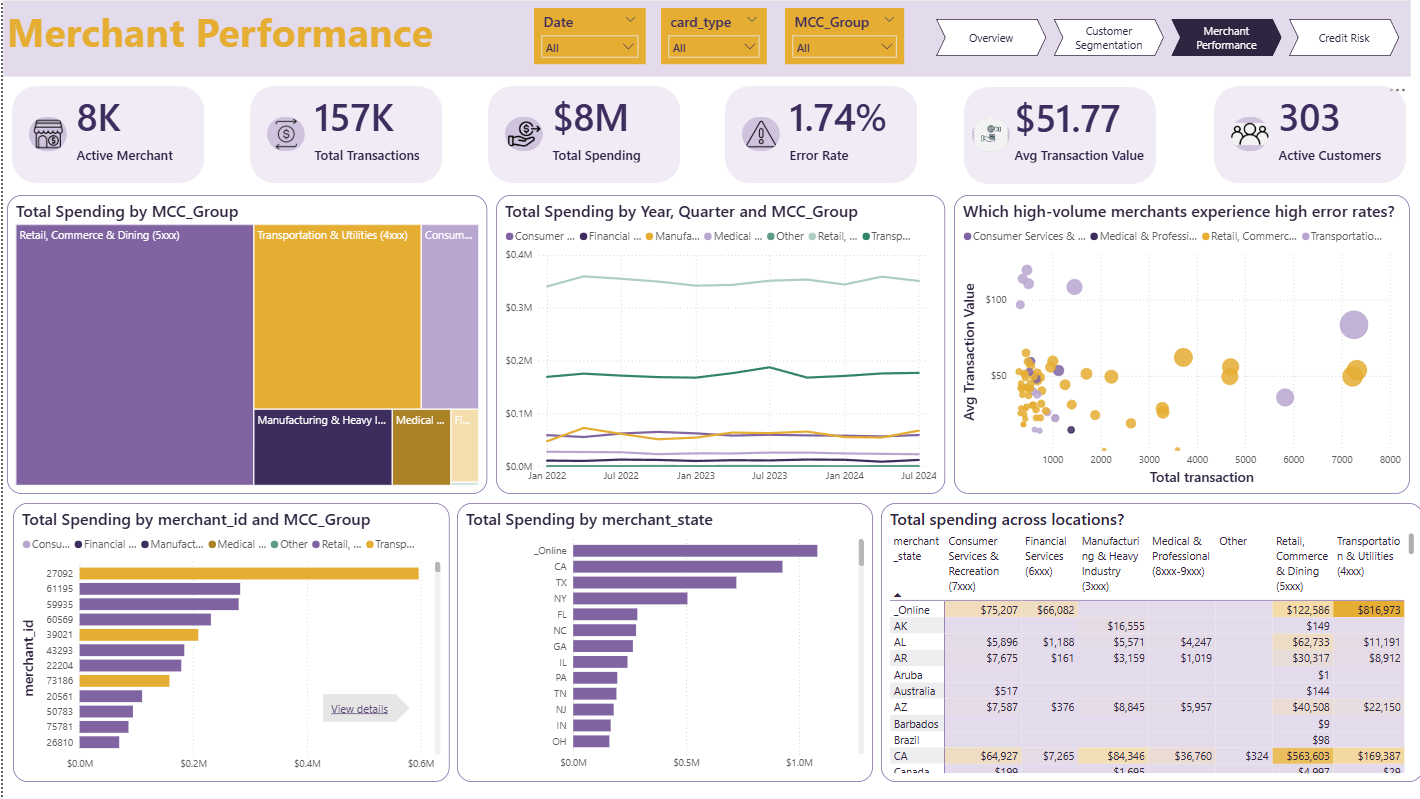

Layout of this report page (visuals, bound fields, positions):
{"tool":"powerbi","page":{"name":"Merchant Performance","canvas":[1920,1080],"ordinal":2},"visuals":[{"type":"shape","box":[11.6,117,259.7,131.3],"z":0,"group":"g2"},{"type":"shape","box":[333.6,117,259.7,131.3],"z":0,"group":"g3"},{"type":"shape","box":[655.7,117,259.7,131.3],"z":0,"group":"g4"},{"type":"shape","box":[976.2,117,259.7,131.3],"z":0,"group":"g5"},{"type":"shape","box":[1636.2,117,259.7,131.3],"z":0,"group":"g6"},{"type":"shape","box":[1298.3,117.7,259.7,131.3],"z":0,"group":"g1"},{"type":"treemap","fields":{"Group":["dim_mcc_codes.MCC_Group"],"Values":["_Measures.Total Spending"]},"box":[5.8,263.8,649.3,404.3],"z":0},{"type":"barChart","fields":{"Y":["_Measures.Gross Spending"],"Category":["fact_transactions.merchant_state","fact_transactions.merchant_city"]},"box":[613,679.7,562.3,376.8],"z":1000},{"type":"barChart","fields":{"Y":["_Measures.Gross Spending"],"Series":["dim_mcc_codes.MCC_Group"],"Category":["dim_merchants.merchant_id"]},"box":[13,679.7,589.9,376.8],"z":2000},{"type":"lineChart","fields":{"Y":["_Measures.Total Spending"],"Category":["dim_date.Date.Variation.Date Hierarchy.Year","dim_date.Date.Variation.Date Hierarchy.Quarter"],"Series":["dim_mcc_codes.MCC_Group"]},"box":[666.7,263.8,607.2,404.3],"z":3000},{"type":"pivotTable","title":"Total spending across locations?","fields":{"Columns":["dim_mcc_codes.MCC_Group"],"Rows":["fact_transactions.merchant_state"],"Values":["_Measures.Total Spending"]},"box":[1187,679.7,733.3,376.8],"z":4000},{"type":"scatterChart","title":"Which high-volume merchants experience high error rates?","fields":{"X":["dim_merchants.Total transaction"],"Size":["_Measures.Total Spending"],"Series":["dim_merchants.MCC_Group"],"Y":["_Measures.Avg Transaction Value"]},"box":[1285.5,263.8,615.9,404.3],"z":5000},{"type":"actionButton","title":"View details","box":[431.9,937.7,117.4,37.7],"z":6000},{"type":"textbox","box":[0,0,1902.1,104.3],"z":7000},{"type":"pageNavigator","box":[1260.3,25.9,629.3,50],"z":8000},{"type":"slicer","fields":{"Values":["dim_mcc_codes.MCC_Group"]},"box":[1056.7,10.4,161.2,76.1],"z":9000},{"type":"slicer","fields":{"Values":["dim_cards.card_type"]},"box":[889.6,10.4,143.3,76.1],"z":10000},{"type":"slicer","fields":{"Values":["dim_date.Date"]},"box":[717.9,10.4,150.7,76.1],"z":11000},{"type":"group","id":"g1","title":"Group 1","box":[1298.3,107,278.3,140.6],"z":12000},{"type":"group","id":"g2","title":"Group 1","box":[11.6,105.6,262.3,143.5],"z":13000},{"type":"cardVisual","fields":{"Data":["_Measures.Active Merchant"]},"box":[69.4,105.6,203.8,131.9],"z":14000,"group":"g2"},{"type":"group","id":"g3","title":"Group 1","box":[333.6,105.6,262.3,143.5],"z":14000},{"type":"cardVisual","fields":{"Data":["_Measures.Total Transactions"]},"box":[391.4,105.6,203.8,131.9],"z":14000,"group":"g3"},{"type":"cardVisual","fields":{"Data":["_Measures.Total Spending"]},"box":[713.5,105.6,203.8,131.9],"z":14000,"group":"g4"},{"type":"cardVisual","fields":{"Data":["_Measures.Error Rate"]},"box":[1034,105.6,203.8,131.9],"z":14000,"group":"g5"},{"type":"cardVisual","fields":{"Data":["_Measures.Active Customers"]},"box":[1694,105.6,203.8,131.9],"z":14000,"group":"g6"},{"type":"cardVisual","fields":{"Data":["_Measures.Avg Transaction Value"]},"box":[1338.1,107,239.1,130.4],"z":14000,"group":"g1"},{"type":"group","id":"g4","title":"Group 1","box":[655.7,105.6,260.9,143.5],"z":15000},{"type":"image","box":[34.4,158.6,51.5,46],"z":15000,"group":"g2"},{"type":"image","box":[356.4,158.6,51.5,46],"z":15000,"group":"g3"},{"type":"image","box":[678.5,158.6,51.5,46],"z":15000,"group":"g4"},{"type":"image","box":[999,158.6,51.5,46],"z":15000,"group":"g5"},{"type":"image","box":[1659,158.6,51.5,46],"z":15000,"group":"g6"},{"type":"image","box":[1309.1,159.8,50.7,44.9],"z":15000,"group":"g1"},{"type":"group","id":"g5","title":"Group 1","box":[976.2,105.6,262.3,143.5],"z":16000},{"type":"group","id":"g6","title":"Group 1","box":[1636.2,105.6,260.9,143.5],"z":17000}]}

Visuals, with their boxes in screenshot pixels (x1, y1, x2, y2), scaled from the page's 1920x1080 canvas onto the 1420x799 screenshot:
shape: pyautogui.locateOnScreen(9, 87, 201, 184)
shape: pyautogui.locateOnScreen(247, 87, 439, 184)
shape: pyautogui.locateOnScreen(485, 87, 677, 184)
shape: pyautogui.locateOnScreen(722, 87, 914, 184)
shape: pyautogui.locateOnScreen(1210, 87, 1402, 184)
shape: pyautogui.locateOnScreen(960, 87, 1152, 184)
treemap - dim_mcc_codes.MCC_Group x _Measures.Total Spending: pyautogui.locateOnScreen(4, 195, 485, 494)
barChart - _Measures.Gross Spending x fact_transactions.merchant_state: pyautogui.locateOnScreen(453, 503, 869, 782)
barChart - _Measures.Gross Spending x dim_mcc_codes.MCC_Group: pyautogui.locateOnScreen(10, 503, 446, 782)
lineChart - _Measures.Total Spending x dim_date.Date.Variation.Date Hierarchy.Year: pyautogui.locateOnScreen(493, 195, 942, 494)
"Total spending across locations?" pivotTable: pyautogui.locateOnScreen(878, 503, 1419, 782)
"Which high-volume merchants experience high error rates?" scatterChart: pyautogui.locateOnScreen(951, 195, 1406, 494)
"View details" actionButton: pyautogui.locateOnScreen(319, 694, 406, 722)
textbox: pyautogui.locateOnScreen(0, 0, 1407, 77)
pageNavigator: pyautogui.locateOnScreen(932, 19, 1398, 56)
slicer - dim_mcc_codes.MCC_Group: pyautogui.locateOnScreen(782, 8, 901, 64)
slicer - dim_cards.card_type: pyautogui.locateOnScreen(658, 8, 764, 64)
slicer - dim_date.Date: pyautogui.locateOnScreen(531, 8, 642, 64)
"Group 1" group: pyautogui.locateOnScreen(960, 79, 1166, 183)
"Group 1" group: pyautogui.locateOnScreen(9, 78, 203, 184)
cardVisual - _Measures.Active Merchant: pyautogui.locateOnScreen(51, 78, 202, 176)
"Group 1" group: pyautogui.locateOnScreen(247, 78, 441, 184)
cardVisual - _Measures.Total Transactions: pyautogui.locateOnScreen(289, 78, 440, 176)
cardVisual - _Measures.Total Spending: pyautogui.locateOnScreen(528, 78, 678, 176)
cardVisual - _Measures.Error Rate: pyautogui.locateOnScreen(765, 78, 915, 176)
cardVisual - _Measures.Active Customers: pyautogui.locateOnScreen(1253, 78, 1404, 176)
cardVisual - _Measures.Avg Transaction Value: pyautogui.locateOnScreen(990, 79, 1166, 176)
"Group 1" group: pyautogui.locateOnScreen(485, 78, 678, 184)
image: pyautogui.locateOnScreen(25, 117, 64, 151)
image: pyautogui.locateOnScreen(264, 117, 302, 151)
image: pyautogui.locateOnScreen(502, 117, 540, 151)
image: pyautogui.locateOnScreen(739, 117, 777, 151)
image: pyautogui.locateOnScreen(1227, 117, 1265, 151)
image: pyautogui.locateOnScreen(968, 118, 1006, 151)
"Group 1" group: pyautogui.locateOnScreen(722, 78, 916, 184)
"Group 1" group: pyautogui.locateOnScreen(1210, 78, 1403, 184)
